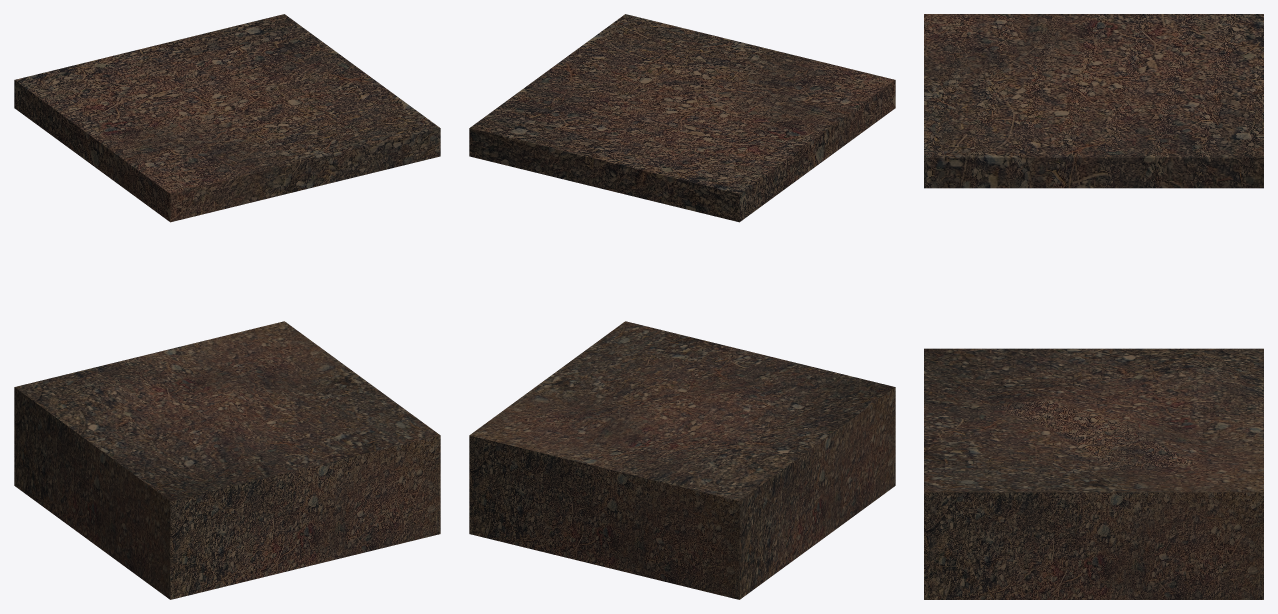
Rendered from EarthFloor2.glb.
The picture shows the model from 3 angles, left to right: view 1: azimuth 30°, elevation 25°; view 2: azimuth 150°, elevation 25°; view 3: azimuth 270°, elevation 25°; orthographic projection. The views are drawn at different scales.
Visible parts, largest first — view 1: Cube; view 2: Cube; view 3: Cube.
Boxes of the visible parts, x1,y1,x2,y2 form: Cube: (14,14,440,599); Cube: (469,14,895,599); Cube: (924,14,1263,599).
Bounding box in the file's own units: 2 × 2.87 × 2.
Materials: 1 (1 with a texture image).
